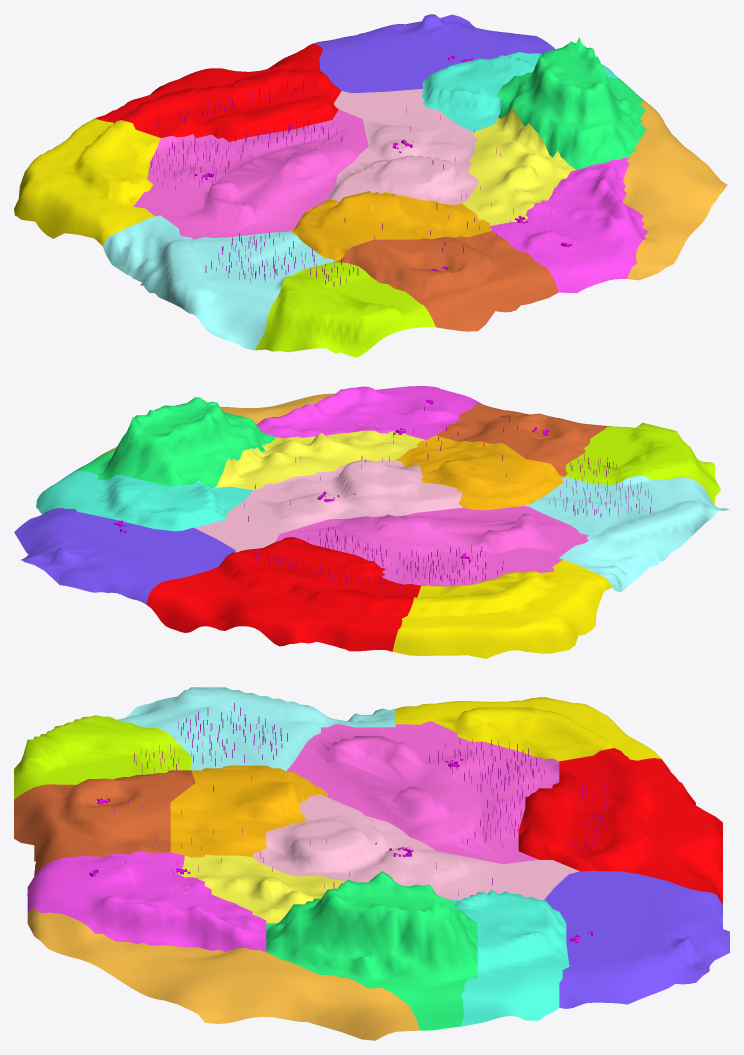
File: stage_col.fbx
3 views of the same model, one above another, from view 1: azimuth 30°, elevation 25°; view 2: azimuth 150°, elevation 25°; view 3: azimuth 270°, elevation 25° (orthographic). The views are drawn at different scales.
Visible parts, largest first — view 1: Terrain_col_11, Terrain_col_08, Terrain_col_13, Terrain_col_03, Terrain_col_14, Terrain_col_10, Terrain_col_02, Terrain_col_05, Terrain_col_04, Terrain_col_12, Terrain_col_01, Terrain_col_07 (+2 smaller); view 2: Terrain_col_13, Terrain_col_11, Terrain_col_14, Terrain_col_08, Terrain_col_12, Terrain_col_10, Terrain_col_05, Terrain_col_09, Terrain_col_02, Terrain_col_07, Terrain_col_06, Terrain_col_04 (+2 smaller); view 3: Terrain_col_11, Terrain_col_13, Terrain_col_05, Terrain_col_01, Terrain_col_12, Terrain_col_02, Terrain_col_10, Terrain_col_03, Terrain_col_08, Terrain_col_09, Terrain_col_07, Terrain_col_14 (+2 smaller).
Part boxes in pixels (x1,y1,x2,y2): Terrain_col_11: (133, 109, 368, 239); Terrain_col_08: (103, 215, 335, 350); Terrain_col_13: (95, 43, 341, 141); Terrain_col_03: (336, 231, 558, 331); Terrain_col_14: (14, 118, 161, 246); Terrain_col_10: (326, 89, 478, 204); Terrain_col_02: (490, 157, 647, 293); Terrain_col_05: (496, 37, 646, 169); Terrain_col_04: (255, 261, 435, 357); Terrain_col_12: (313, 14, 554, 93); Terrain_col_01: (622, 100, 727, 280); Terrain_col_07: (291, 191, 492, 261); Terrain_col_13: (146, 537, 420, 651); Terrain_col_11: (275, 505, 588, 586); Terrain_col_14: (392, 559, 611, 658); Terrain_col_08: (525, 475, 729, 592); Terrain_col_12: (14, 508, 235, 604); Terrain_col_10: (194, 460, 462, 552); Terrain_col_05: (73, 397, 277, 487); Terrain_col_09: (36, 470, 252, 531); Terrain_col_02: (256, 386, 481, 439); Terrain_col_07: (395, 435, 564, 510); Terrain_col_06: (215, 430, 425, 489); Terrain_col_04: (565, 422, 720, 504); Terrain_col_11: (286, 721, 559, 863); Terrain_col_13: (518, 748, 722, 904); Terrain_col_05: (266, 871, 477, 1030); Terrain_col_01: (27, 908, 419, 1040); Terrain_col_12: (544, 870, 729, 1008); Terrain_col_02: (27, 851, 266, 952); Terrain_col_10: (252, 794, 579, 900); Terrain_col_03: (14, 770, 195, 875); Terrain_col_08: (118, 687, 395, 770); Terrain_col_09: (451, 889, 569, 1026); Terrain_col_07: (170, 765, 327, 857); Terrain_col_14: (396, 697, 666, 765).
Size of what is drawn, in the model's own units: 860 by 135 by 820.
